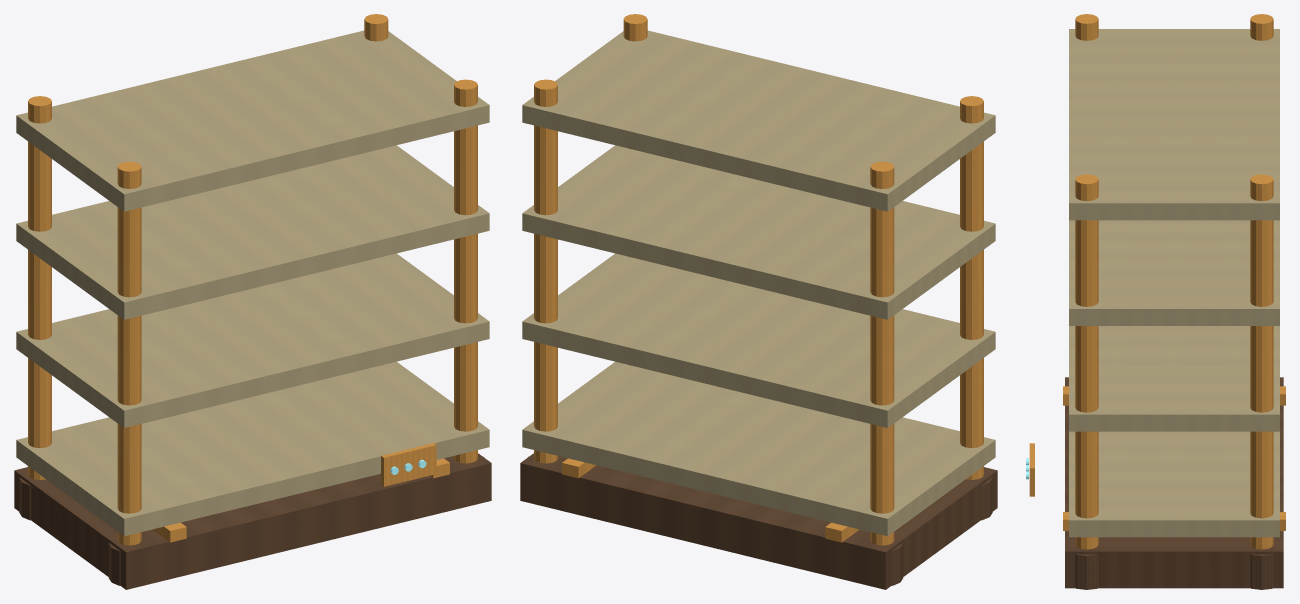
The model's file is atlas100-s014-a06.glb.
3 renders of one model, left to right at view 1: azimuth 30°, elevation 25°; view 2: azimuth 150°, elevation 25°; view 3: azimuth 270°, elevation 25°, orthographic. The views are drawn at different scales.
Visible parts, largest first — view 1: atlas100-s014-a06:part-014, atlas100-s014-a06:part-013, atlas100-s014-a06:part-012, atlas100-s014-a06:part-011, atlas100-s014-a06:part-000, atlas100-s014-a06:part-005, atlas100-s014-a06:part-009, atlas100-s014-a06:part-003, atlas100-s014-a06:part-015, atlas100-s014-a06:part-007; view 2: atlas100-s014-a06:part-014, atlas100-s014-a06:part-011, atlas100-s014-a06:part-013, atlas100-s014-a06:part-012, atlas100-s014-a06:part-000, atlas100-s014-a06:part-003, atlas100-s014-a06:part-007, atlas100-s014-a06:part-005, atlas100-s014-a06:part-009; view 3: atlas100-s014-a06:part-014, atlas100-s014-a06:part-011, atlas100-s014-a06:part-012, atlas100-s014-a06:part-013, atlas100-s014-a06:part-000, atlas100-s014-a06:part-009, atlas100-s014-a06:part-007, atlas100-s014-a06:part-010, atlas100-s014-a06:part-008, atlas100-s014-a06:part-003, atlas100-s014-a06:part-005.
Part boxes in pixels (box(x1,y1,x2,y2)): atlas100-s014-a06:part-014: box(16, 30, 489, 211); atlas100-s014-a06:part-013: box(16, 145, 489, 319); atlas100-s014-a06:part-012: box(16, 253, 489, 427); atlas100-s014-a06:part-011: box(16, 361, 489, 536); atlas100-s014-a06:part-000: box(14, 453, 491, 589); atlas100-s014-a06:part-005: box(117, 161, 141, 545); atlas100-s014-a06:part-009: box(454, 79, 477, 463); atlas100-s014-a06:part-003: box(28, 96, 51, 479); atlas100-s014-a06:part-015: box(381, 443, 436, 486); atlas100-s014-a06:part-007: box(364, 14, 388, 365); atlas100-s014-a06:part-014: box(522, 30, 995, 211); atlas100-s014-a06:part-011: box(522, 361, 995, 536); atlas100-s014-a06:part-013: box(522, 145, 995, 319); atlas100-s014-a06:part-012: box(522, 253, 995, 427); atlas100-s014-a06:part-000: box(520, 453, 997, 589); atlas100-s014-a06:part-003: box(870, 161, 894, 545); atlas100-s014-a06:part-007: box(534, 79, 557, 463); atlas100-s014-a06:part-005: box(960, 96, 983, 479); atlas100-s014-a06:part-009: box(623, 14, 647, 365); atlas100-s014-a06:part-014: box(1069, 29, 1279, 220); atlas100-s014-a06:part-011: box(1069, 431, 1279, 537); atlas100-s014-a06:part-012: box(1069, 326, 1279, 431); atlas100-s014-a06:part-013: box(1069, 220, 1279, 325); atlas100-s014-a06:part-000: box(1065, 377, 1283, 588); atlas100-s014-a06:part-009: box(1075, 174, 1098, 549); atlas100-s014-a06:part-007: box(1250, 174, 1273, 549); atlas100-s014-a06:part-010: box(1075, 554, 1098, 589); atlas100-s014-a06:part-008: box(1250, 554, 1272, 589); atlas100-s014-a06:part-003: box(1250, 14, 1273, 40); atlas100-s014-a06:part-005: box(1075, 14, 1098, 40).
Bounding box in the file's own units: 2.69 × 2.84 × 1.66.
Materials: 4 (4 with a texture image).
